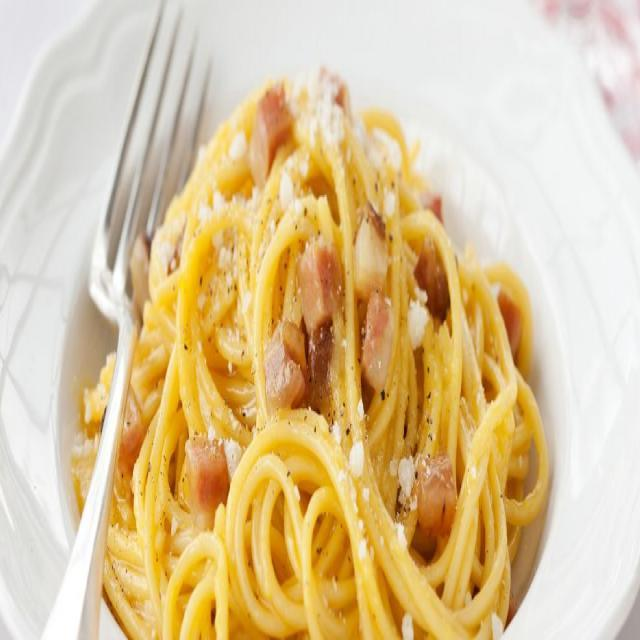Pasta with carbonara sauce: (49, 40, 599, 616)
